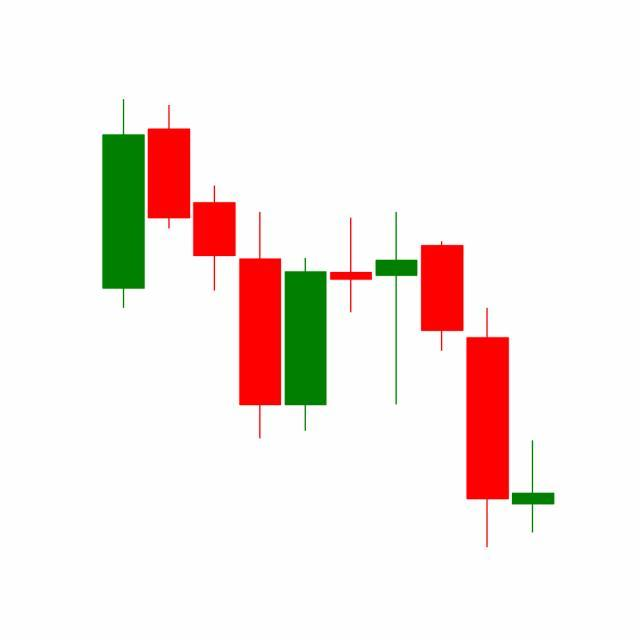Hikkake Pattern: (283, 208, 512, 549)
